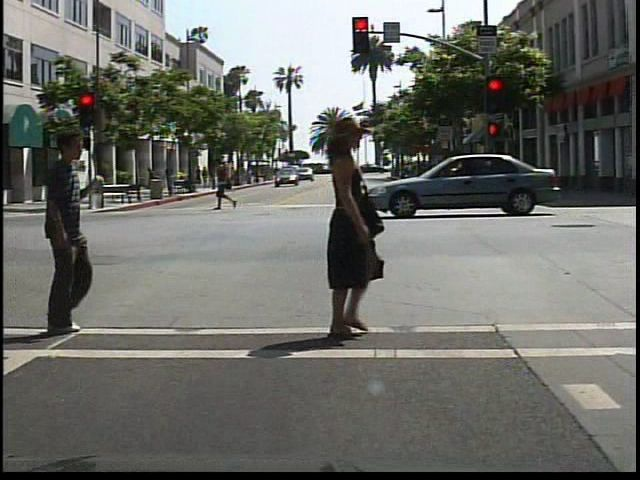person: (287, 122, 409, 342), (24, 129, 107, 337), (212, 155, 239, 212), (145, 164, 166, 199)
